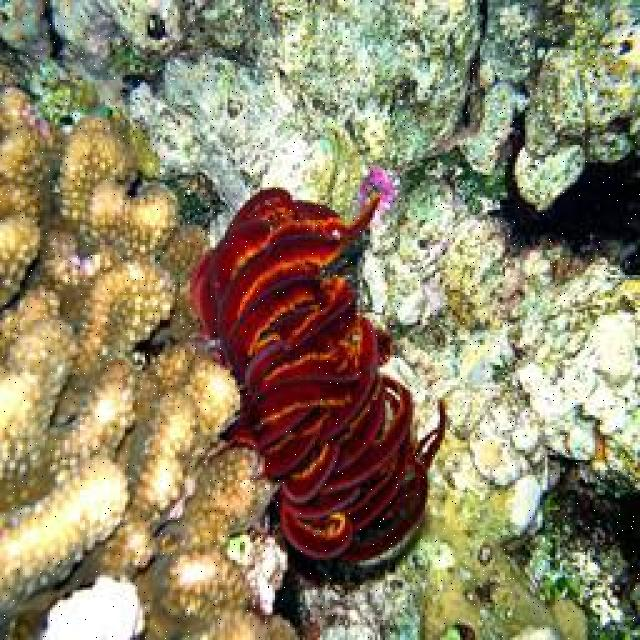reefs: (0, 88, 300, 638), (189, 189, 450, 563)
